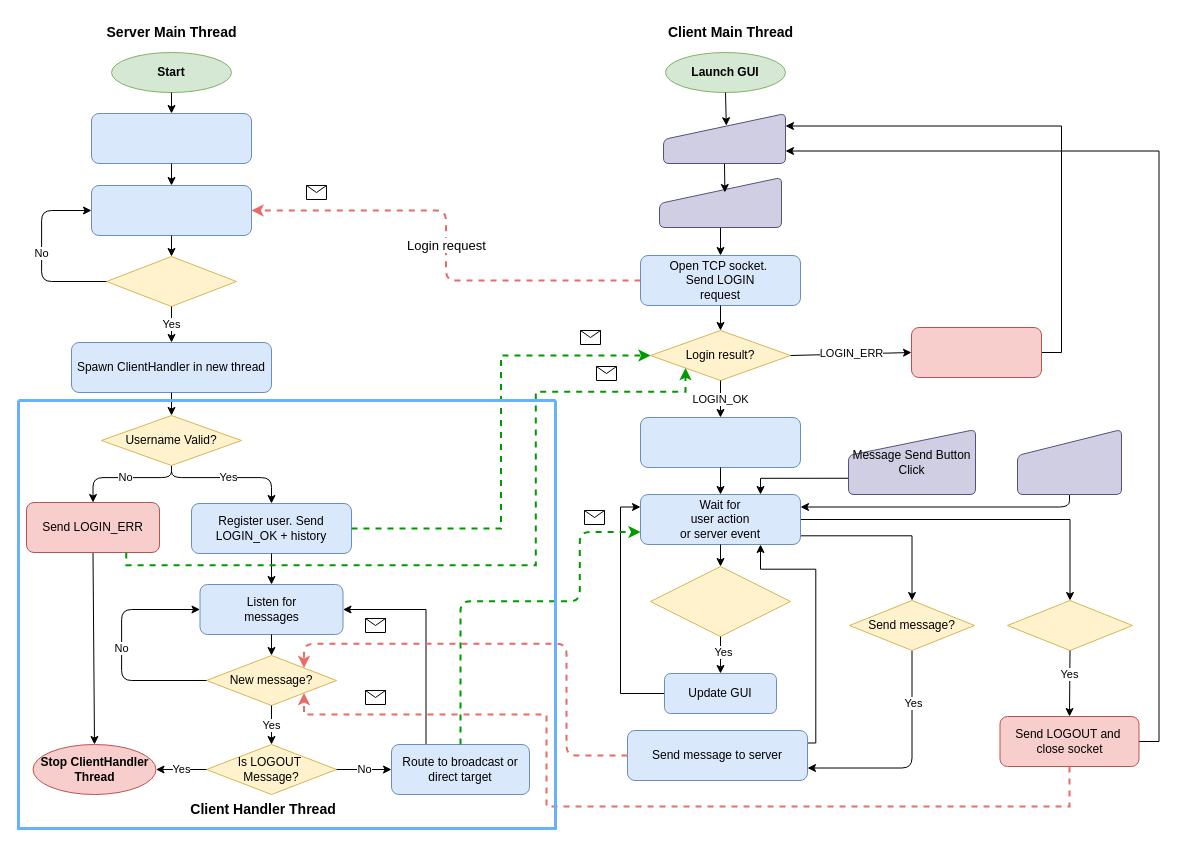
This 1185x847 diagram has some shape labels left out. Each missing label, with the centre of its shape:
Bind socket to host:port: [171,138]
Connect button click: [724,138]
Disconnect button click: [1069,461]
Disconnect?: [1069,625]
Listen for connections: [171,210]
Load history and update GUI: [720,442]
Meesage from Server?: [720,601]
New login request?: [171,281]
Show error and disconnect: [976,352]
Username input: [720,202]
